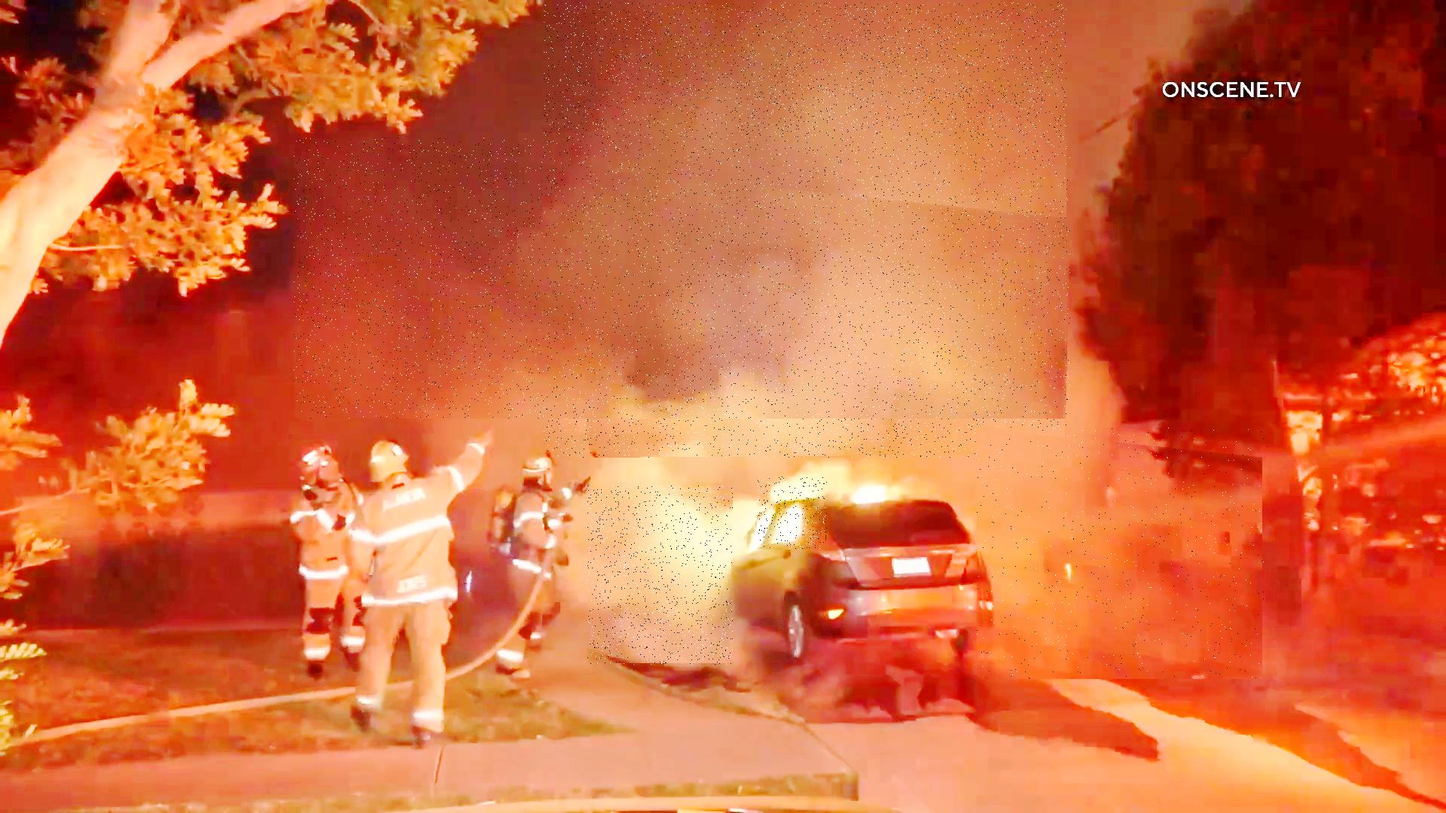fire: (757, 477, 828, 550)
smoke: (544, 2, 1067, 458), (294, 138, 1070, 419), (977, 428, 1264, 679), (588, 486, 733, 665)
